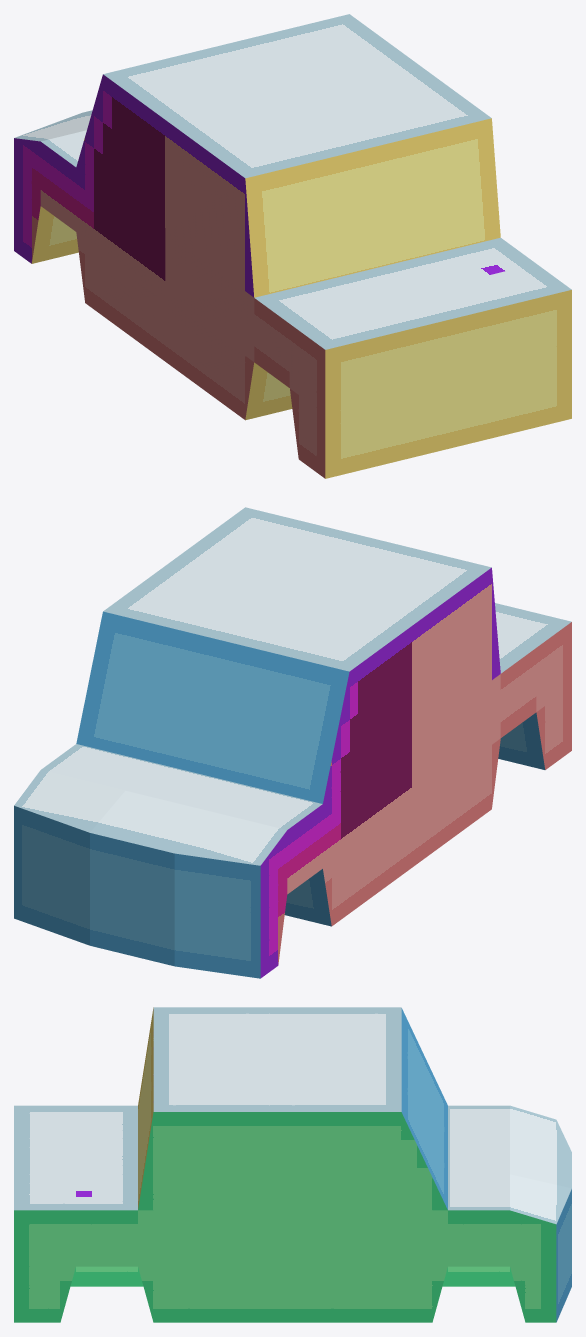
The model's file is car.obj.
3 views of the same model, one above another, from view 1: azimuth 30°, elevation 25°; view 2: azimuth 150°, elevation 25°; view 3: azimuth 270°, elevation 25° (orthographic). The views are drawn at different scales.
Parts seen in each view (by area): view 1: mesh; view 2: mesh; view 3: mesh.
Boxes of the visible parts, x1,y1,x2,y2 form: mesh: (14, 14, 571, 478); mesh: (14, 507, 571, 978); mesh: (14, 1007, 571, 1322).
Bounding box in the file's own units: 1 × 0.9375 × 2.25.
Materials: 1 (1 with a texture image).
